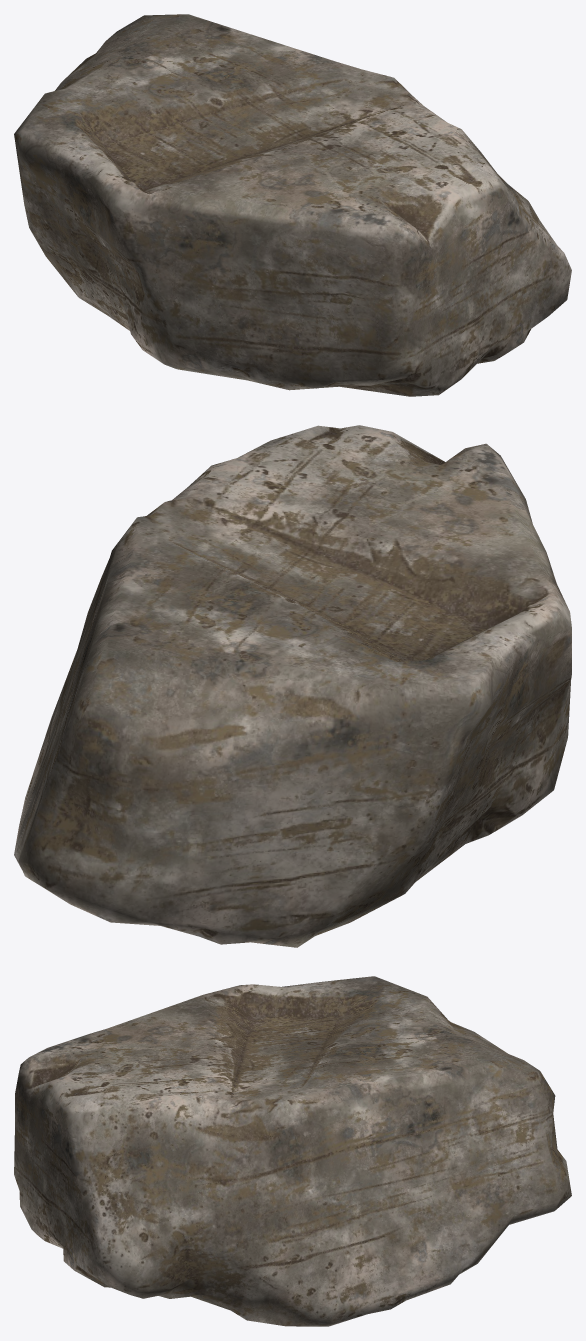
Rendered from Rock_3.fbx.
3 renders of one model, top to bottom at view 1: azimuth 30°, elevation 25°; view 2: azimuth 150°, elevation 25°; view 3: azimuth 270°, elevation 25°, orthographic. The views are drawn at different scales.
Parts seen in each view (by area): view 1: Rock_3; view 2: Rock_3; view 3: Rock_3.
Boxes of the visible parts, box(x1,y1,x2,y2) form: Rock_3: box(14, 14, 571, 396); Rock_3: box(14, 425, 571, 947); Rock_3: box(14, 976, 571, 1326).
Size of the model in its own units: 369 by 197 by 486.
1 material, 1 textured.
